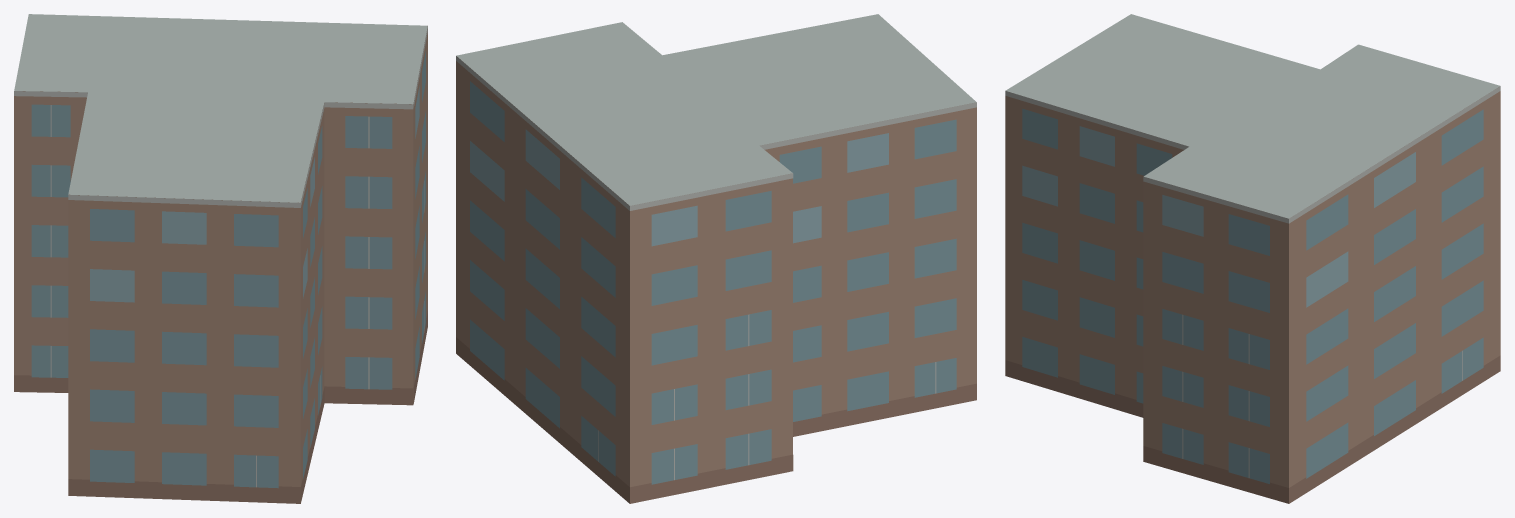
The model's file is survey-upis-32701190.glb.
3 views of the same model, side by side, from view 1: azimuth 30°, elevation 25°; view 2: azimuth 150°, elevation 25°; view 3: azimuth 270°, elevation 25° (orthographic). The views are drawn at different scales.
Parts seen in each view (by area): view 1: survey-upis-32701190.tmp; view 2: survey-upis-32701190.tmp; view 3: survey-upis-32701190.tmp.
Boxes of the visible parts, x1,y1,x2,y2 form: survey-upis-32701190.tmp: (14, 14, 427, 503); survey-upis-32701190.tmp: (456, 14, 976, 503); survey-upis-32701190.tmp: (1005, 14, 1500, 503).
Bounding box in the file's own units: 21.73 × 14.11 × 22.22.
